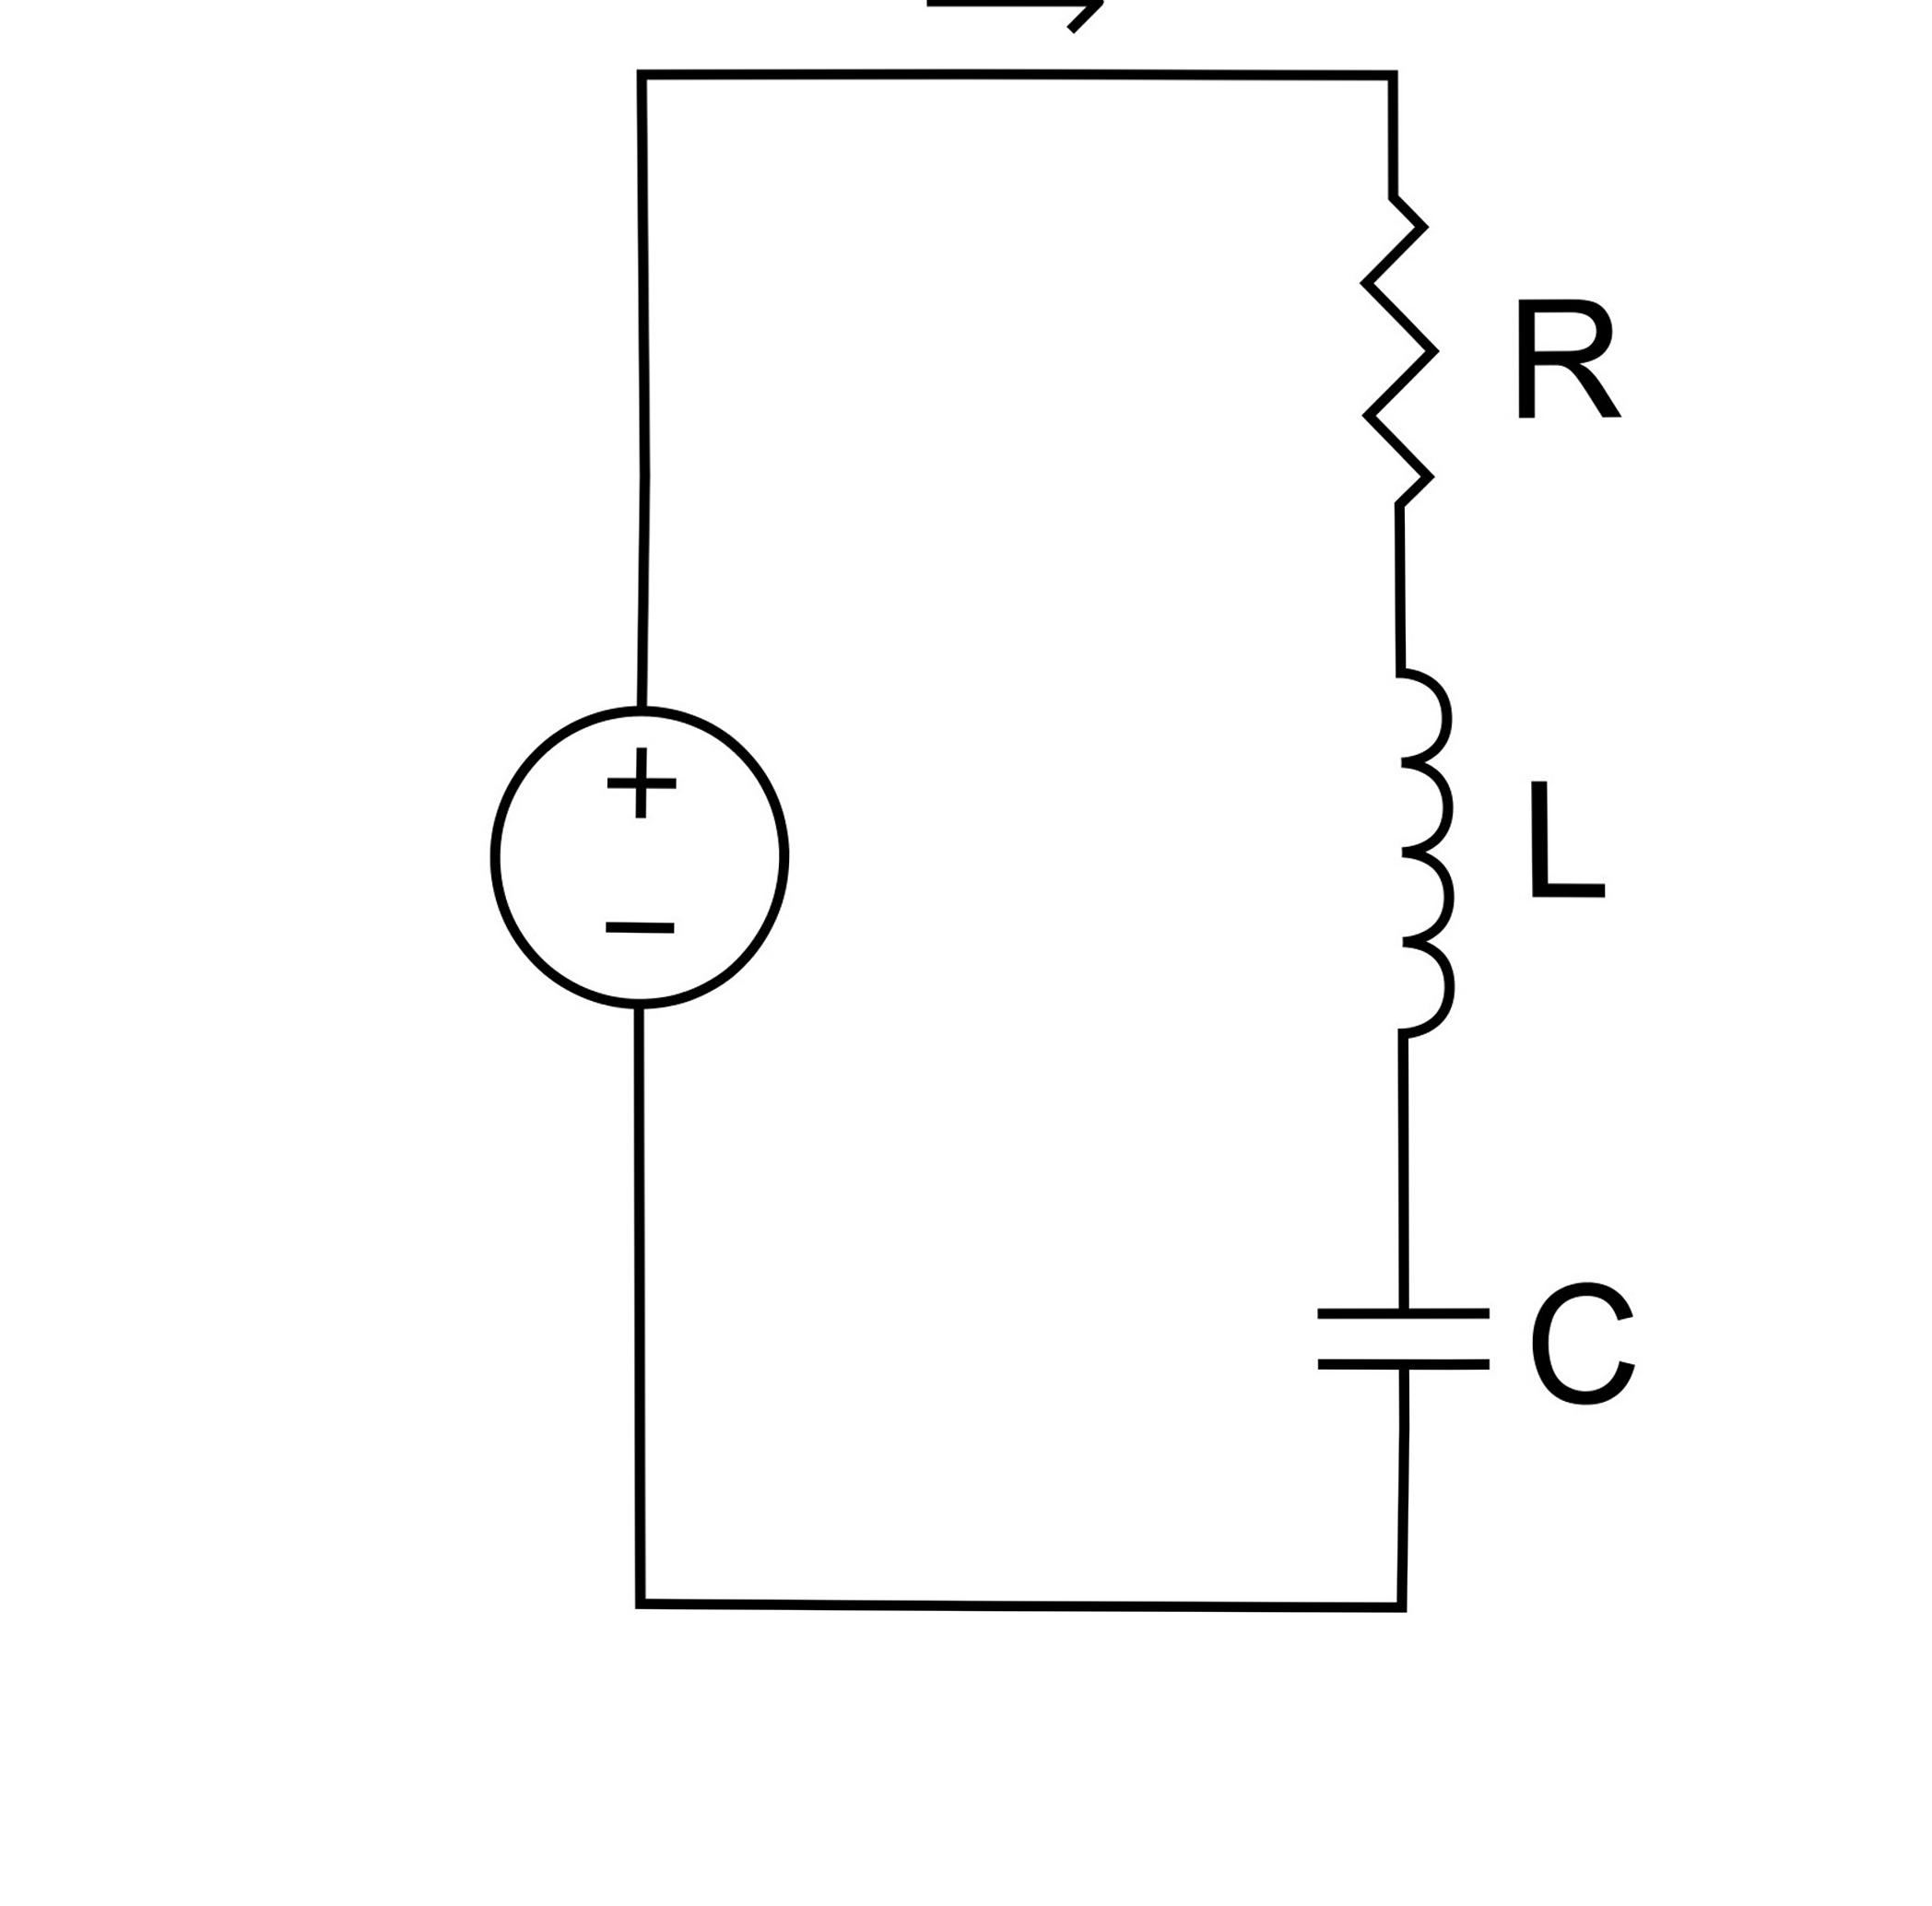Battery: (429, 667, 857, 1105)
